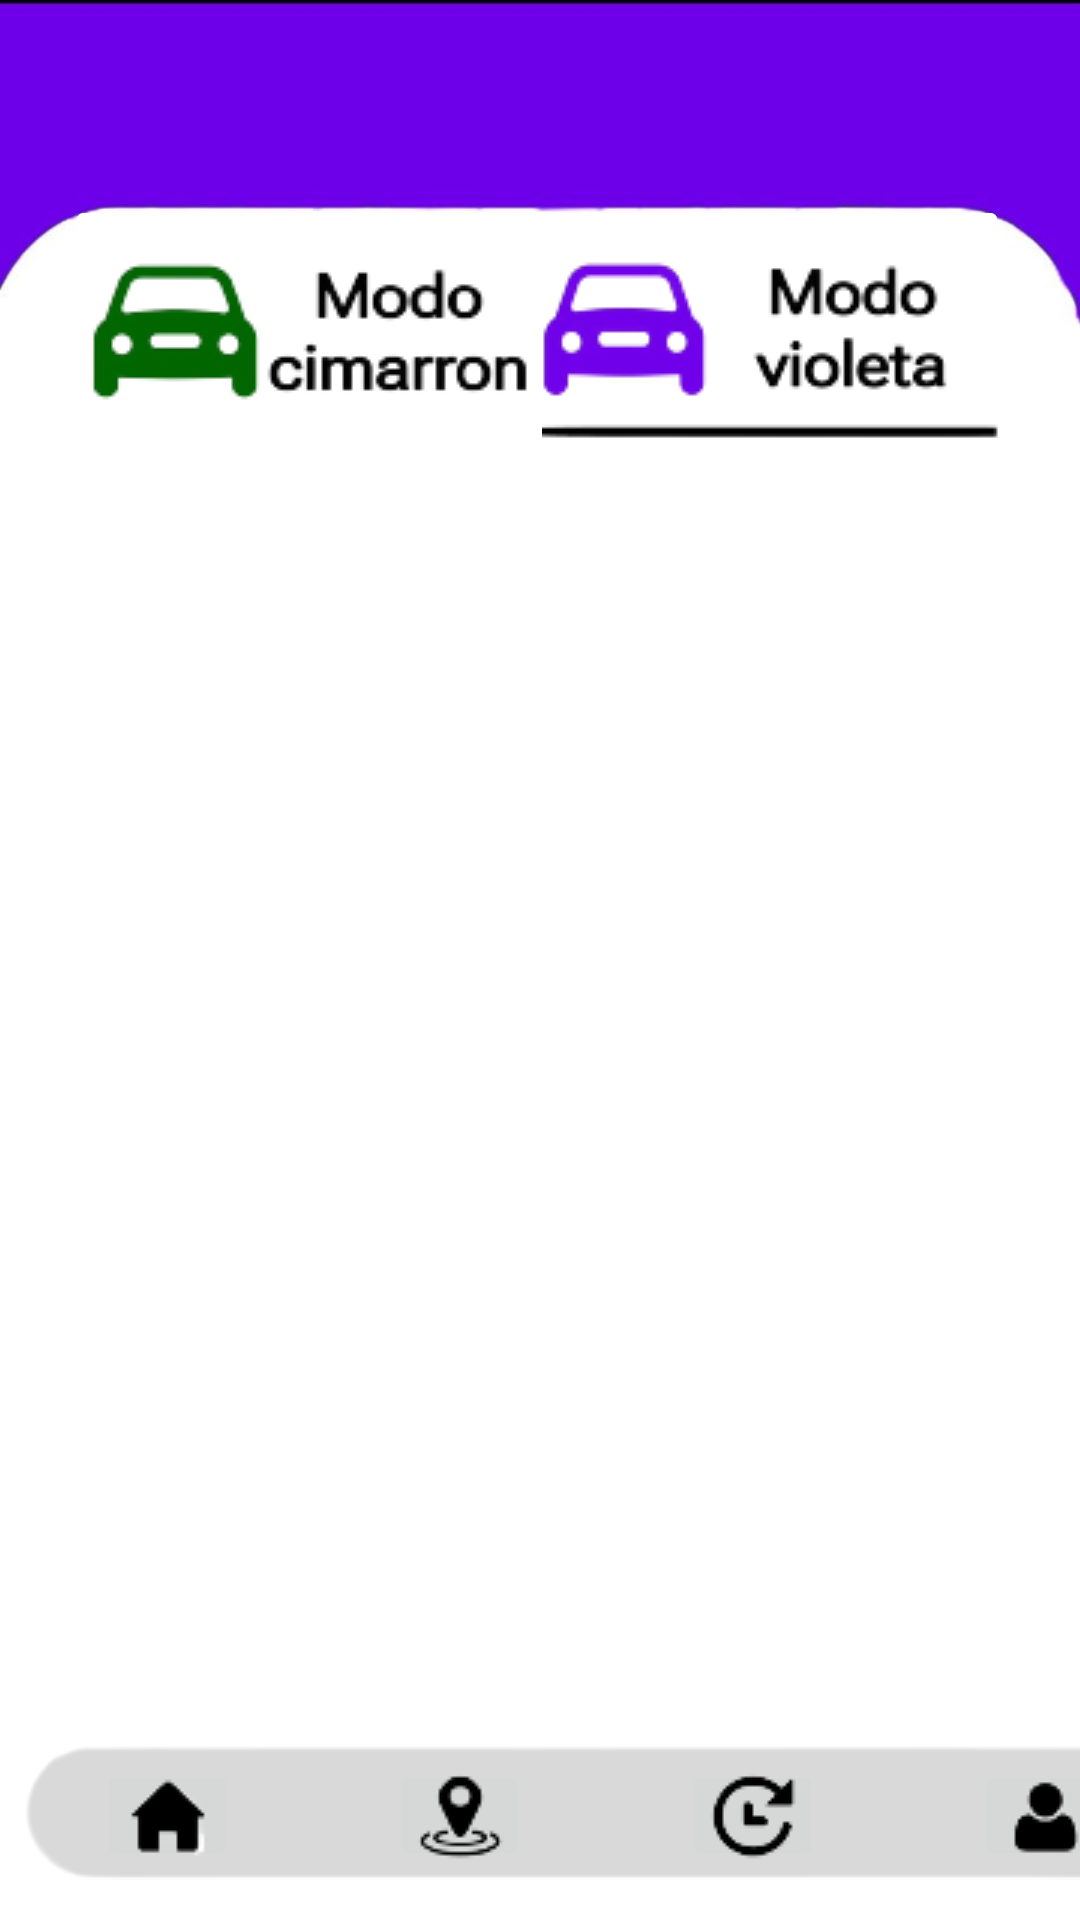

Named icons in this screenshot (1080x1920) and their centers, (x,y):
principal historial: (754,1817)
principal home: (168,1817)
principal ubicacion: (461,1817)
